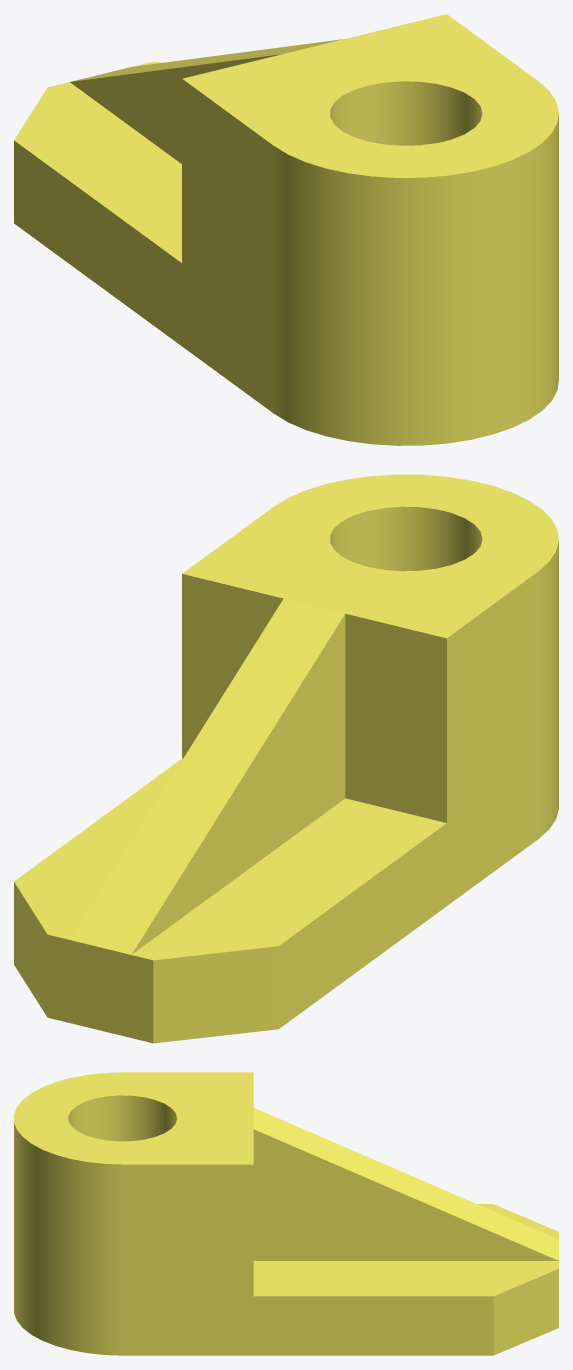
3 renders of one model, top to bottom at view 1: azimuth 30°, elevation 25°; view 2: azimuth 150°, elevation 25°; view 3: azimuth 270°, elevation 25°, orthographic. The views are drawn at different scales.
Visible parts, largest first — view 1: 801; view 2: 801; view 3: 801.
Boxes of the visible parts, box(x1,y1,x2,y2) form: 801: box(14, 14, 558, 445); 801: box(14, 474, 558, 1043); 801: box(14, 1072, 558, 1355).
Bounding box in the file's own units: 0.03 × 0.029 × 0.0749.
